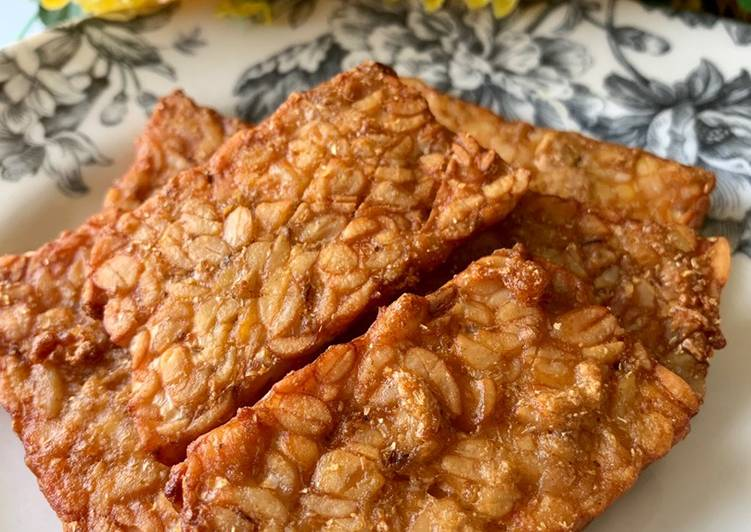Tempe: (70, 56, 477, 405), (240, 266, 687, 532)
